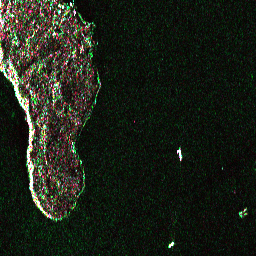ship: (175, 146, 184, 162), (165, 239, 177, 250)
